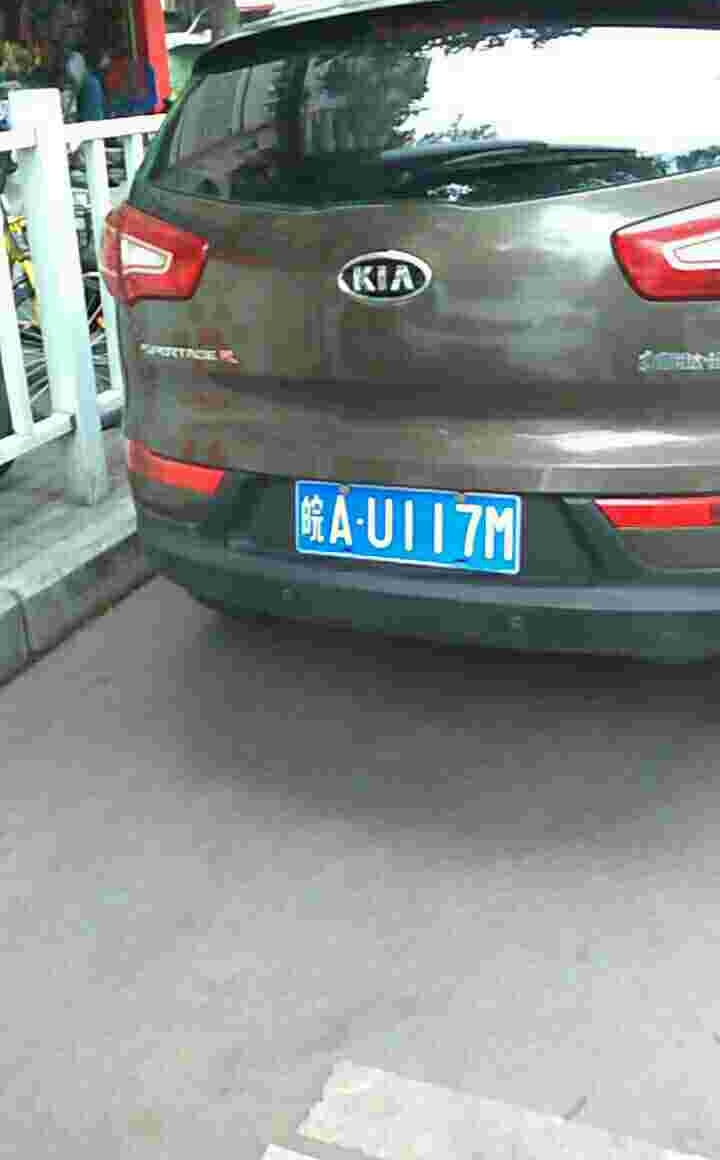plate: (292, 473, 524, 578)
